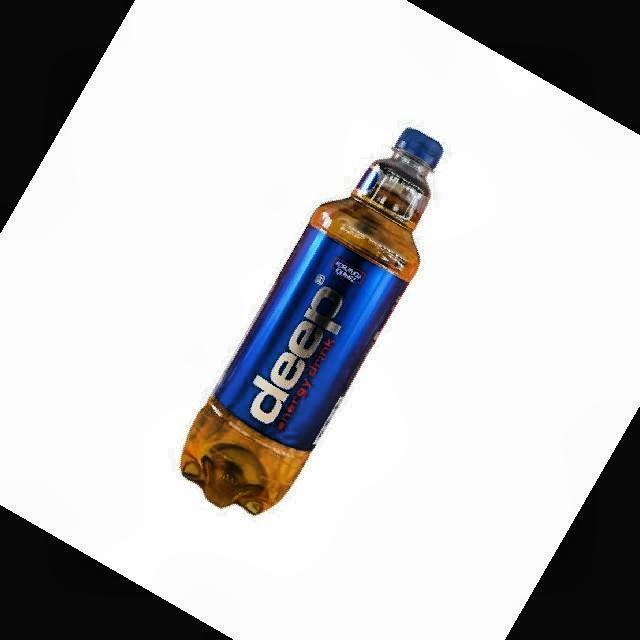plastic: (181, 129, 442, 514)
